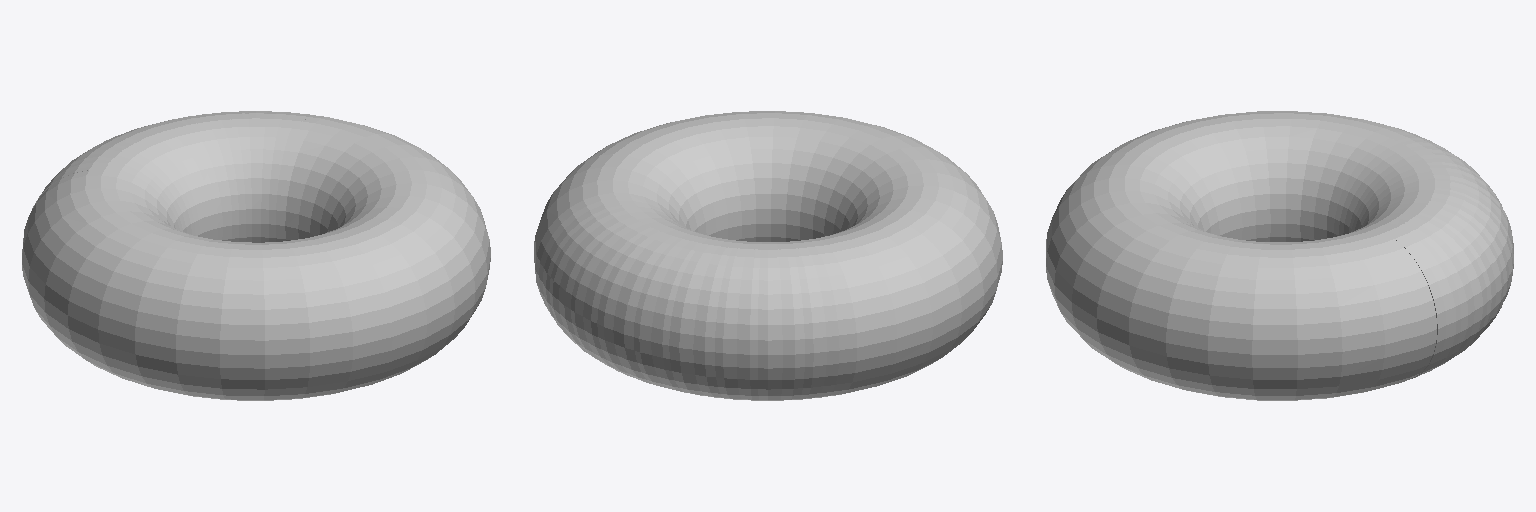
Rendered from dona4.obj.
3 renders of one model, left to right at view 1: azimuth 30°, elevation 25°; view 2: azimuth 150°, elevation 25°; view 3: azimuth 270°, elevation 25°, orthographic.
Visible parts, largest first — view 1: dona4:Mesh; view 2: dona4:Mesh; view 3: dona4:Mesh.
Boxes of the visible parts, box(x1,y1,x2,y2) form: dona4:Mesh: box(22, 111, 490, 400); dona4:Mesh: box(534, 111, 1002, 400); dona4:Mesh: box(1046, 111, 1513, 400).
Bounding box in the file's own units: 1.25 × 0.4245 × 1.25.